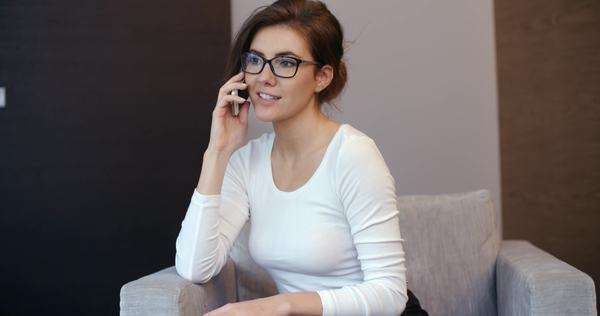phone: (217, 70, 255, 127)
talk: (206, 37, 320, 139)
